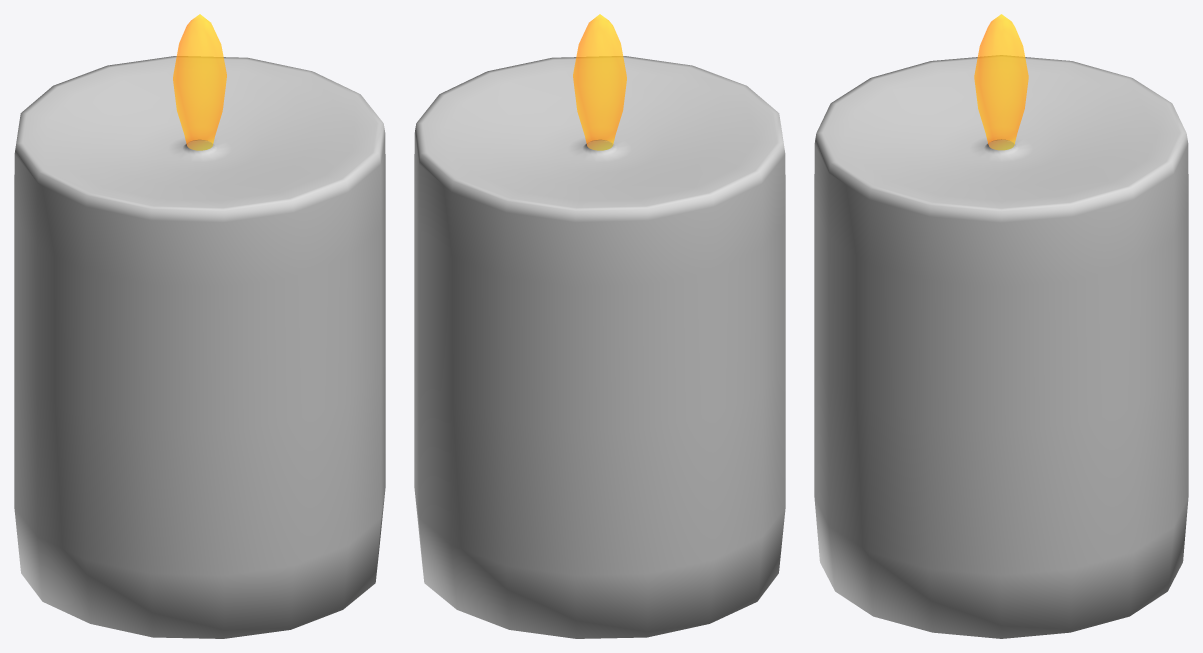
The model's file is Candle_1.fbx.
3 renders of one model, left to right at view 1: azimuth 30°, elevation 25°; view 2: azimuth 150°, elevation 25°; view 3: azimuth 270°, elevation 25°, orthographic.
Parts seen in each view (by area): view 1: Candle_1; view 2: Candle_1; view 3: Candle_1.
Part boxes in pixels (x1,y1,x2,y2): Candle_1: [14, 14, 385, 638]; Candle_1: [414, 14, 785, 638]; Candle_1: [814, 14, 1188, 638].
Bounding box in the file's own units: 9.28 × 15.39 × 9.28.
